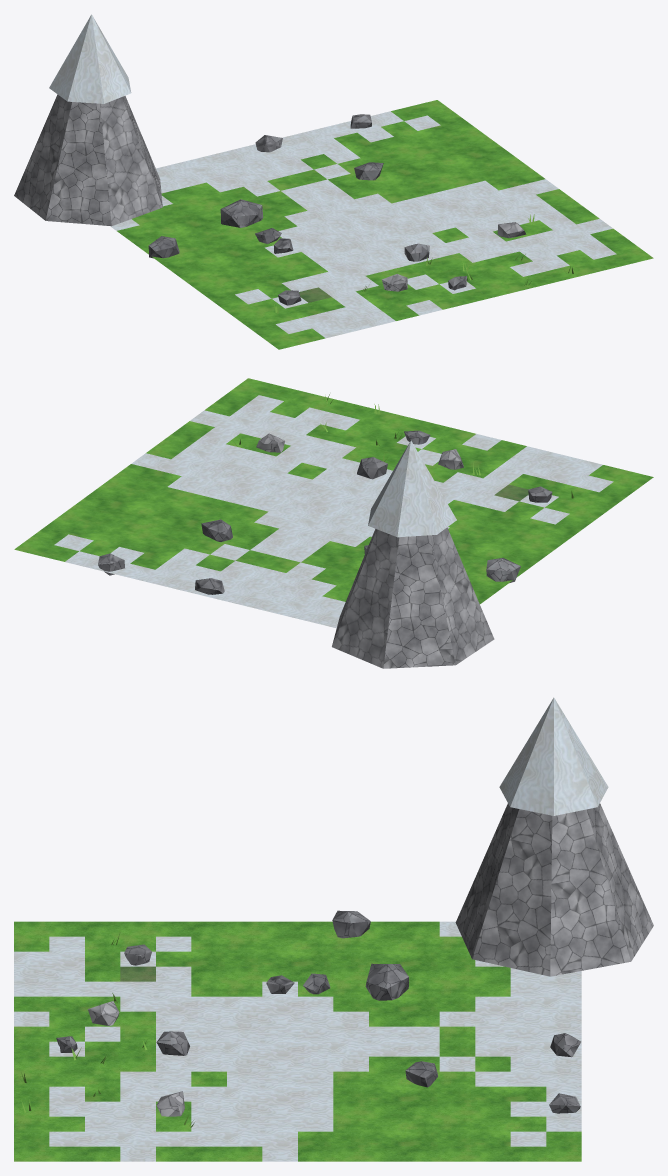
Rendered from chunk_8_1.glb.
3 views of the same model, one above another, from view 1: azimuth 30°, elevation 25°; view 2: azimuth 150°, elevation 25°; view 3: azimuth 270°, elevation 25° (orthographic). The views are drawn at different scales.
Visible parts, largest first — view 1: chunk_8_1; view 2: chunk_8_1; view 3: chunk_8_1.
Part boxes in pixels (<box>): chunk_8_1: <box>14,14,653,349</box>; chunk_8_1: <box>14,378,653,668</box>; chunk_8_1: <box>14,697,653,1161</box>.
Bounding box in the file's own units: 17.83 × 7.78 × 18.04.
Materials: 7 (6 with a texture image).
